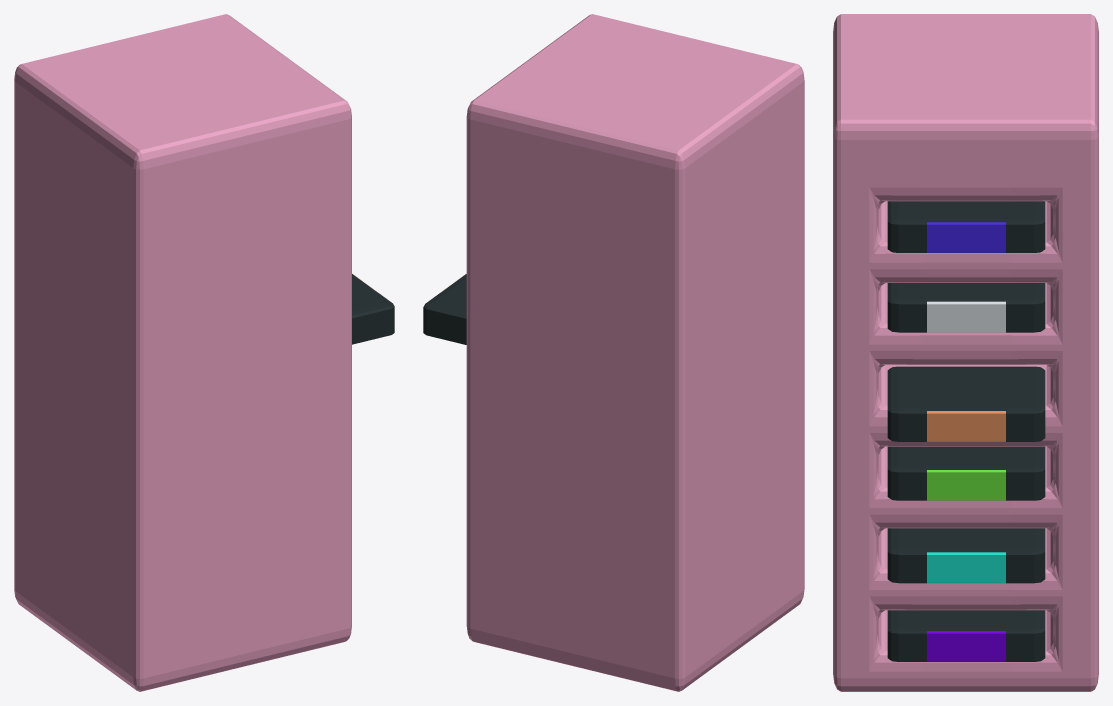
The model's file is shelfState4.glb.
3 views of the same model, side by side, from view 1: azimuth 30°, elevation 25°; view 2: azimuth 150°, elevation 25°; view 3: azimuth 270°, elevation 25° (orthographic). The views are drawn at different scales.
Visible parts, largest first — view 1: Cube, Cube.001; view 2: Cube, Cube.001; view 3: Cube, Cube.001, Cube.005, Cube.004, Cube.003, Cube.006, Cube.002.
Part boxes in pixels (left/top/right/bottom): Cube: left=14, top=14, right=351, bottom=691; Cube.001: left=352, top=273, right=394, bottom=344; Cube: left=466, top=14, right=804, bottom=691; Cube.001: left=423, top=274, right=466, bottom=344; Cube: left=833, top=14, right=1098, bottom=691; Cube.001: left=887, top=366, right=1045, bottom=441; Cube.005: left=887, top=528, right=1045, bottom=583; Cube.004: left=887, top=446, right=1045, bottom=500; Cube.003: left=887, top=201, right=1045, bottom=252; Cube.006: left=887, top=610, right=1045, bottom=661; Cube.002: left=887, top=283, right=1045, bottom=332.
Bounding box in the file's own units: 2.64 × 4.76 × 2.
